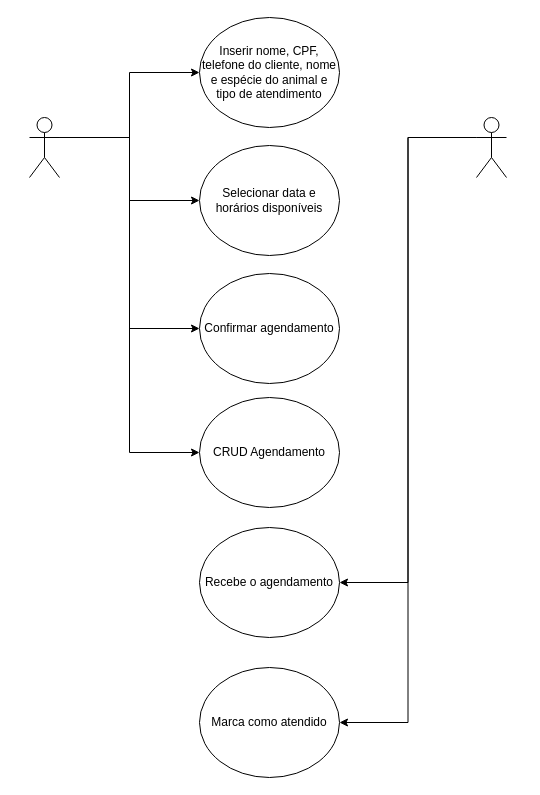
This 540x795 diagram has some shape labels left out. The shapes that lost their labels are listed below. From the top down, each one's centre as x and y in pixels, then its label:
(44,147): Atendente
(491,147): Profissional
